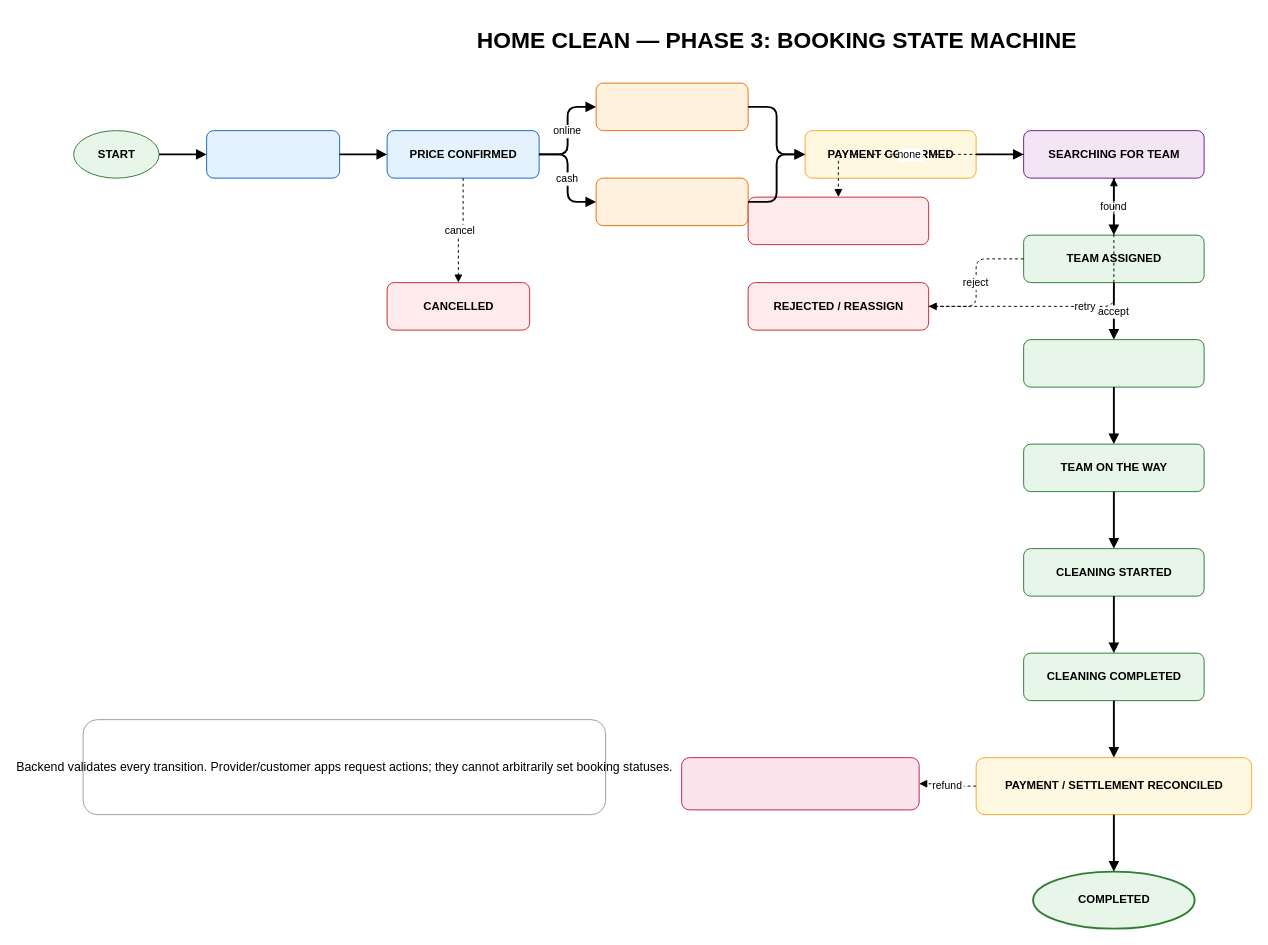
Some shapes in this 1268 by 945 pixel diagram are drawn without their labels. The centre of each missing label's shape, as x and y in pixels:
"CASH SELECTED" belongs at (x=671, y=201).
"NO TEAM AVAILABLE" belongs at (x=838, y=220).
"PAYMENT PENDING" belongs at (x=671, y=106).
"REFUND PENDING → REFUNDED" belongs at (x=800, y=783).
"REQUESTED" belongs at (x=273, y=154).
"TEAM ACCEPTED" belongs at (x=1113, y=363).
